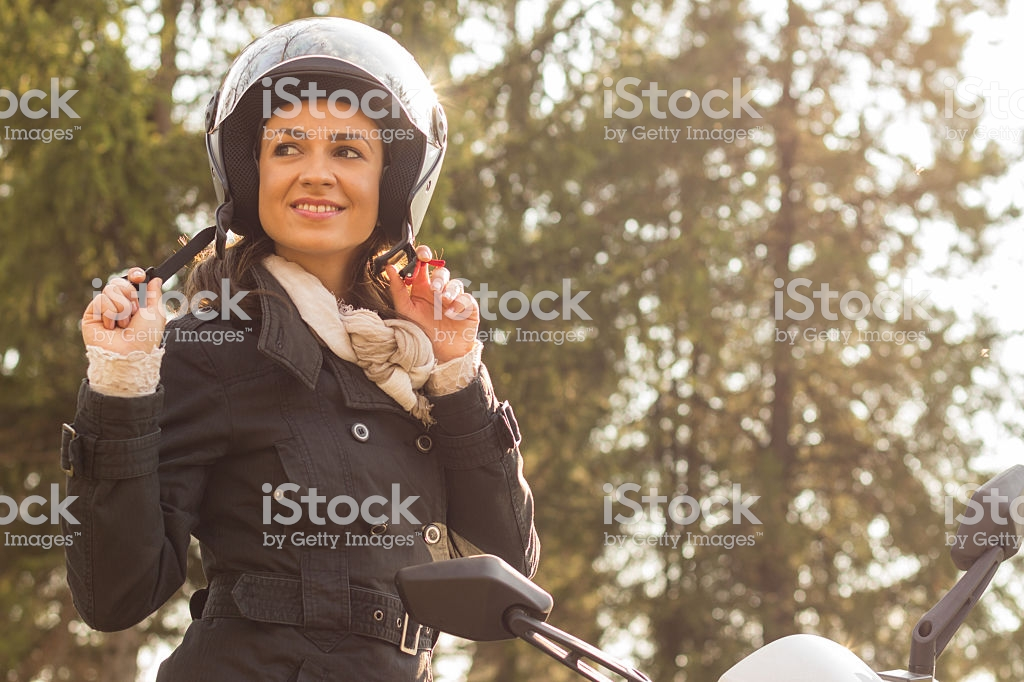helmet: (216, 34, 449, 240)
